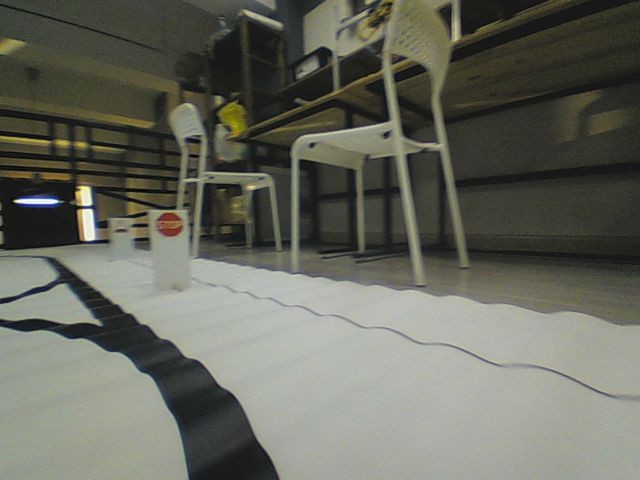Stop: (154, 211, 183, 239)
